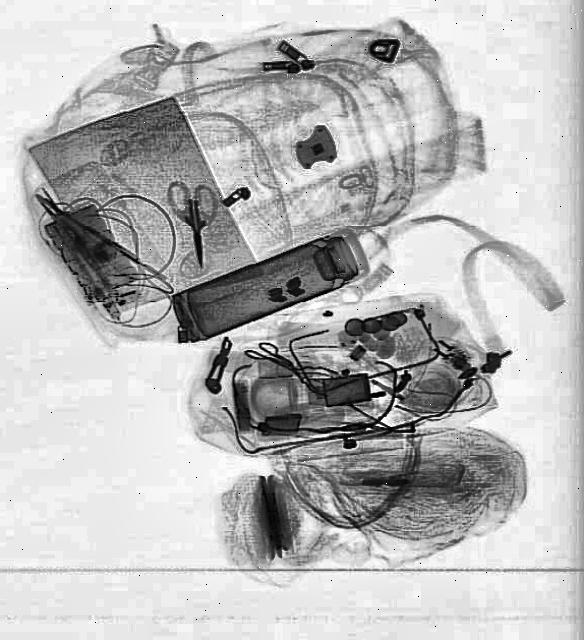Knife: (182, 200, 214, 270)
